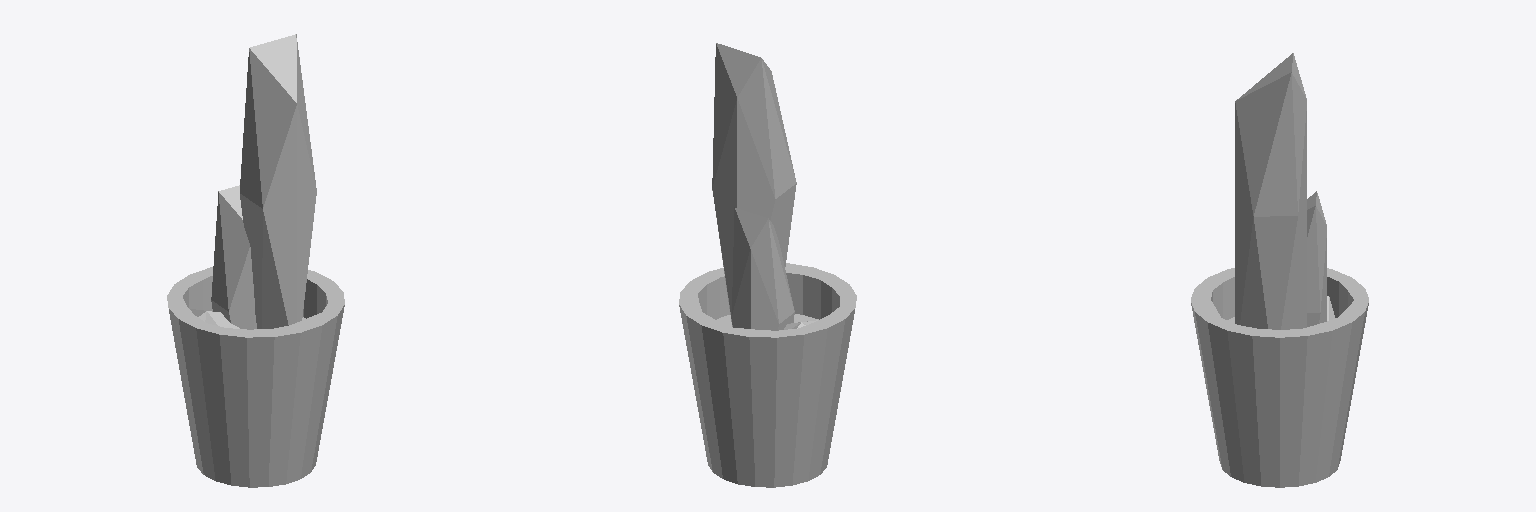
File: Cactus_Plant_RA.obj
3 views of the same model, side by side, from view 1: azimuth 30°, elevation 25°; view 2: azimuth 150°, elevation 25°; view 3: azimuth 270°, elevation 25° (orthographic).
Parts seen in each view (by area): view 1: polySurface5; view 2: polySurface5; view 3: polySurface5.
Part boxes in pixels (left/top/right/bottom): polySurface5: left=167, top=34, right=344, bottom=487; polySurface5: left=679, top=43, right=856, bottom=487; polySurface5: left=1191, top=53, right=1368, bottom=487.
Bounding box in the file's own units: 2 × 5.08 × 2.